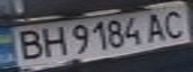1: (87, 19, 109, 52)
4: (121, 15, 148, 47)
8: (106, 17, 127, 50)
9: (66, 20, 93, 55)
A: (142, 9, 172, 44)
B: (9, 27, 48, 62)
C: (157, 6, 193, 40)
H: (36, 25, 69, 58)
